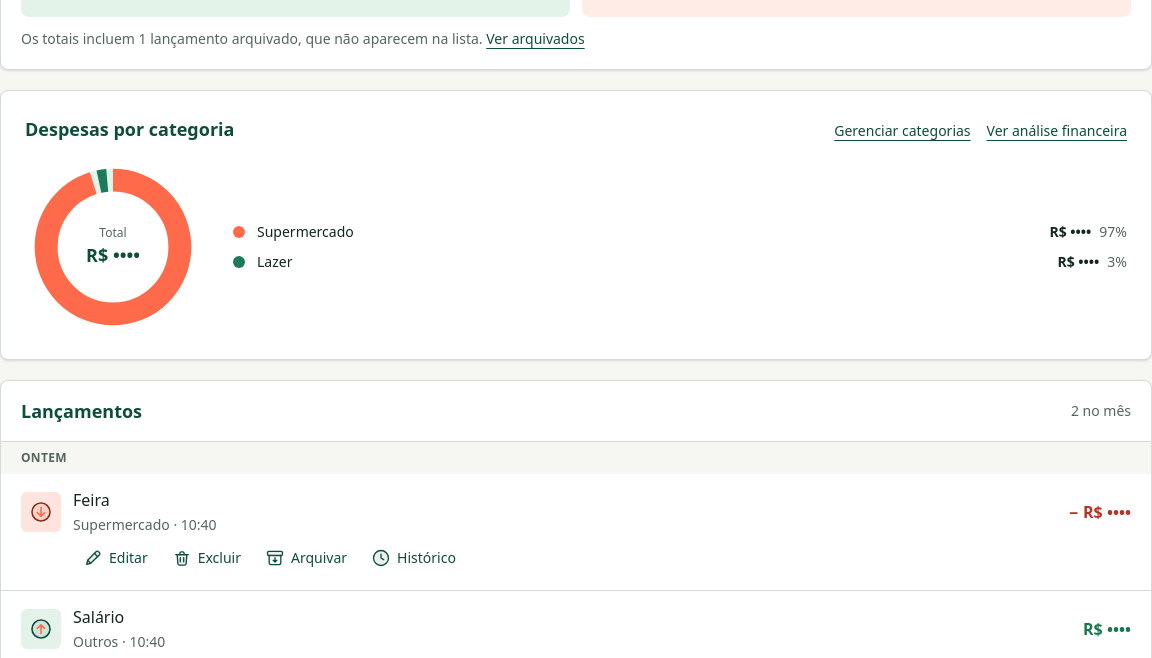
com os valores escondidos nada vaza › Home: a pergunta de excluir não mostra o valor
(page scrolled)
Click the button with aria-label "Excluir Feira": {"x": 206, "y": 558} [162, 540, 251, 576]
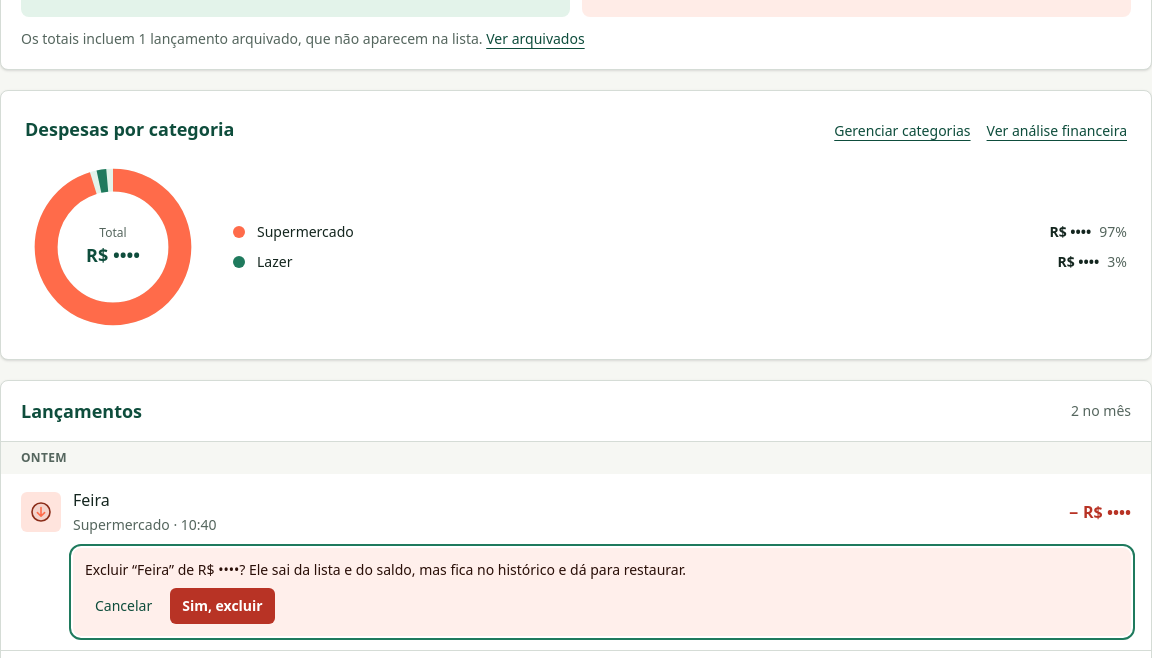
Check: the element named "Excluir Feira" shows "de R$ ••••?", box [73, 548, 1131, 636]
